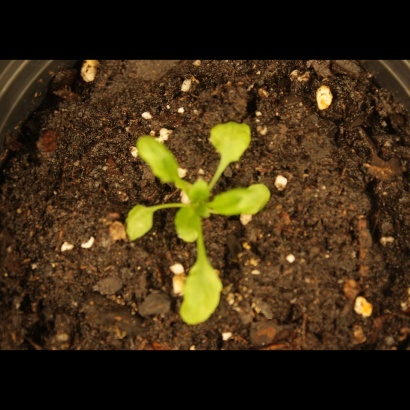leaf: (177, 256, 229, 327), (133, 132, 186, 189), (214, 180, 277, 225), (206, 119, 259, 168), (118, 203, 159, 243), (173, 204, 205, 247), (183, 176, 214, 209)
